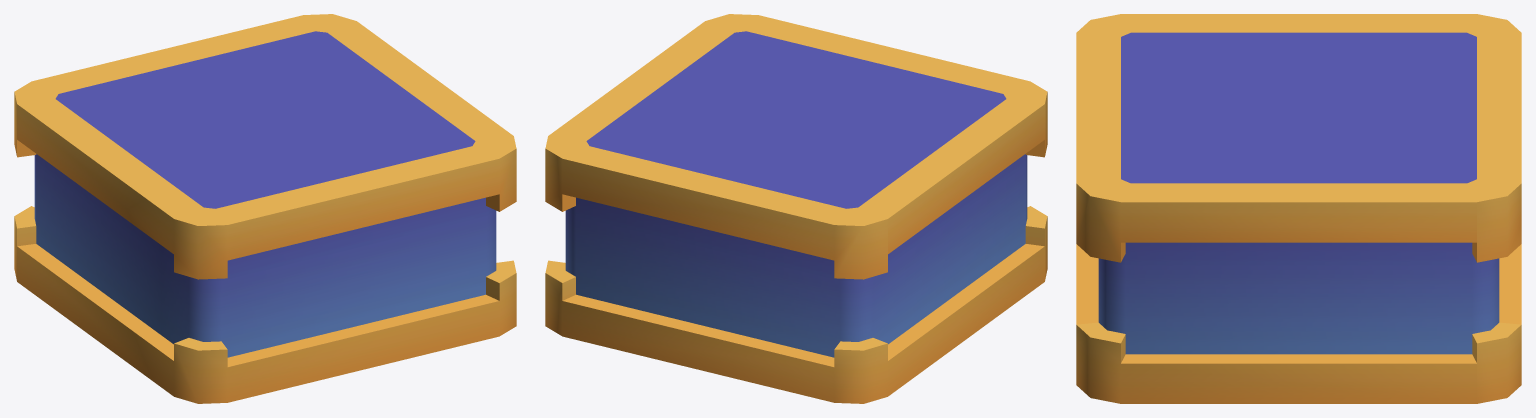
File: kenney-platformer-block-moving-blue.glb
The picture shows the model from 3 angles, left to right: view 1: azimuth 30°, elevation 25°; view 2: azimuth 150°, elevation 25°; view 3: azimuth 270°, elevation 25°; orthographic projection. The views are drawn at different scales.
Parts seen in each view (by area): view 1: block-moving-blue; view 2: block-moving-blue; view 3: block-moving-blue.
Boxes of the visible parts, left/top/right/bottom form: block-moving-blue: left=14, top=14, right=516, bottom=403; block-moving-blue: left=545, top=14, right=1047, bottom=403; block-moving-blue: left=1076, top=14, right=1521, bottom=403.
Size of the model in its own units: 1 by 0.5001 by 1.
Materials: 1 (1 with a texture image).
